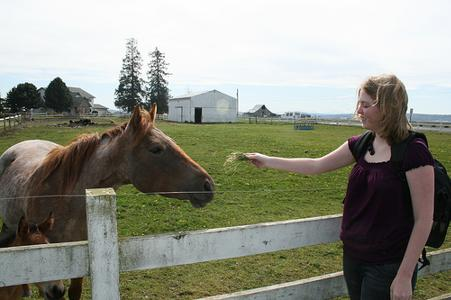person: (244, 75, 436, 300)
